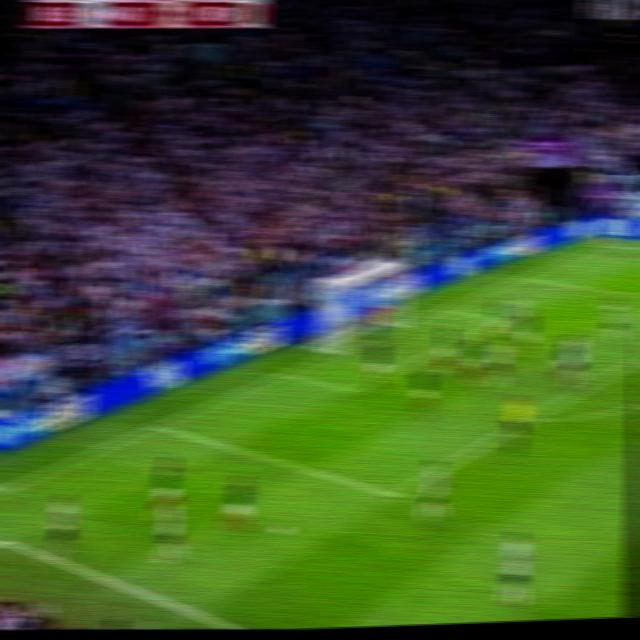bigarea_bottom_inner: (386, 488, 406, 503)
bigarea_bottom_outter: (149, 420, 169, 433)
bigarea_top_outter: (515, 272, 530, 282)
bottom_arc_area_intersection: (523, 414, 543, 425)
corner: (596, 242, 617, 248)
smallarea_bottom_inner: (344, 384, 361, 399)
smallarea_bottom_outter: (278, 368, 294, 381)
smallarea_top_inner: (499, 314, 515, 328)
smallarea_top_outter: (438, 305, 452, 314)
